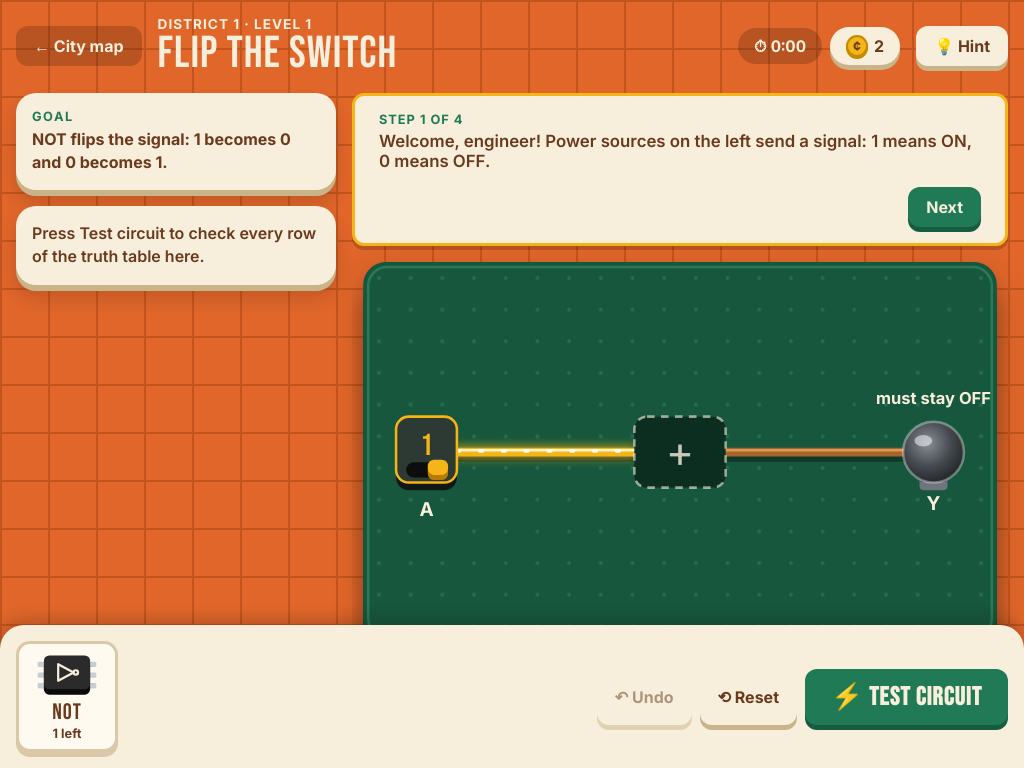
Test: LevelPage › cannot buy a hint without enough coins
The width and height of the screenshot is (1024, 768).
Click the button "💡 Hint" at (962, 46), box [916,26,1008,66]
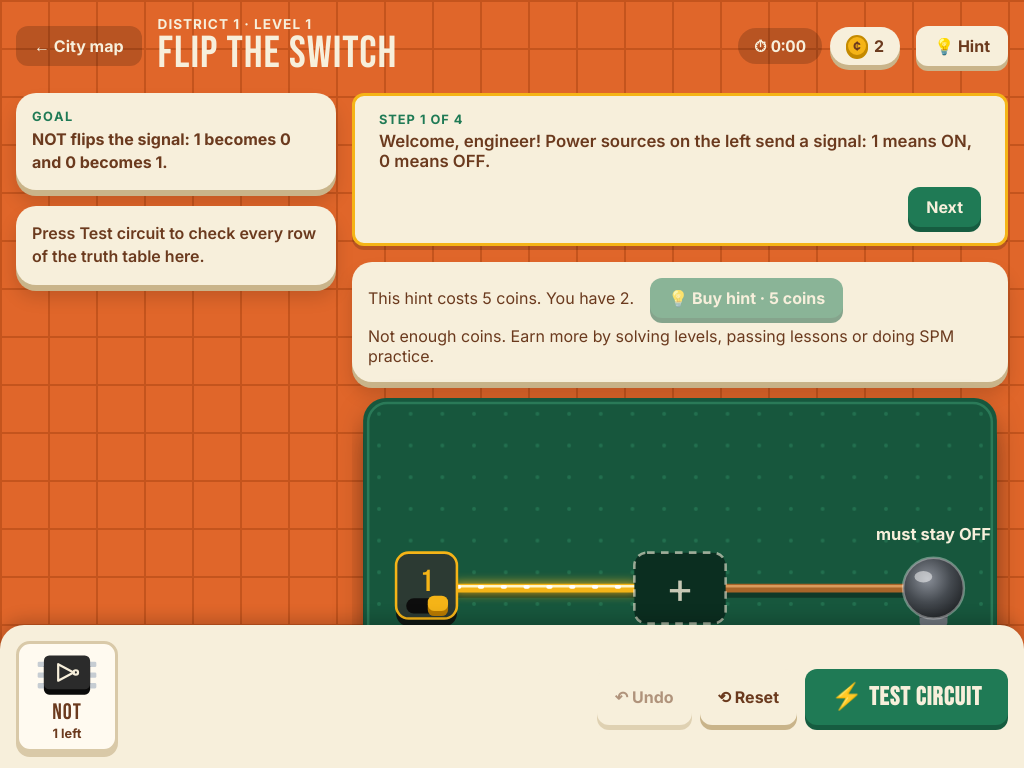
Check: the button "💡 Buy hint · 5 coins" is disabled, box [650,278,843,318]
Check: the text "Not enough coins" is shown, box [368,326,954,366]
